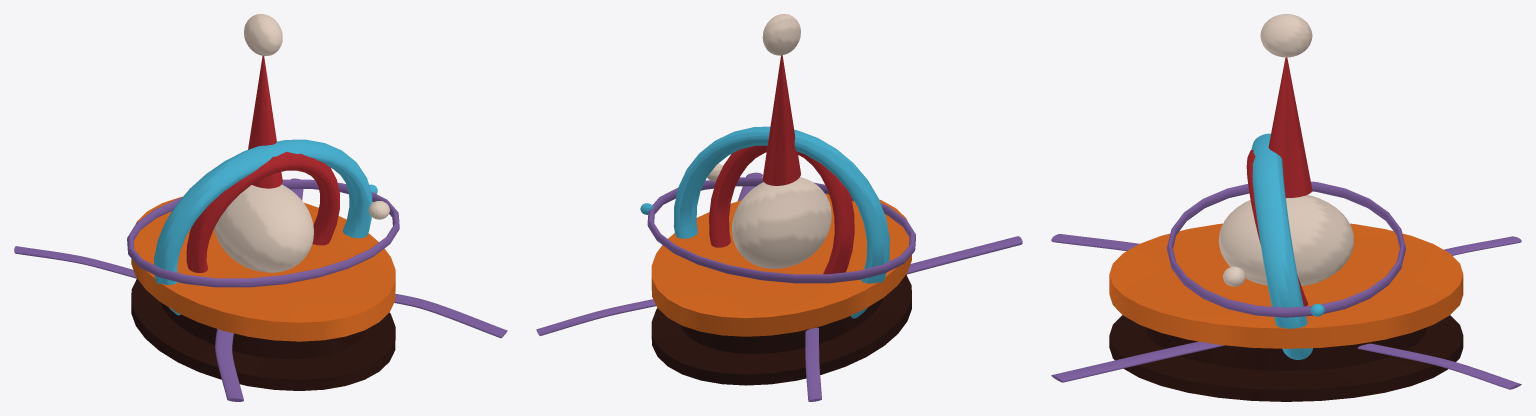
The model's file is 0051_天文图鉴_黑洞.glb.
3 views of the same model, side by side, from view 1: azimuth 30°, elevation 25°; view 2: azimuth 150°, elevation 25°; view 3: azimuth 270°, elevation 25° (orthographic). The views are drawn at different scales.
Parts seen in each view (by area): view 1: card_0051; view 2: card_0051; view 3: card_0051.
Part boxes in pixels (x1,y1,x2,y2): card_0051: (14,14,507,401); card_0051: (536,14,1022,401); card_0051: (1051,14,1521,401).
Size of the model in its own units: 0.9559 by 1 by 1.25.
